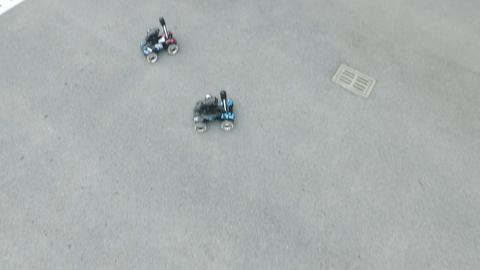chariot: (134, 16, 180, 65), (192, 91, 241, 135)
